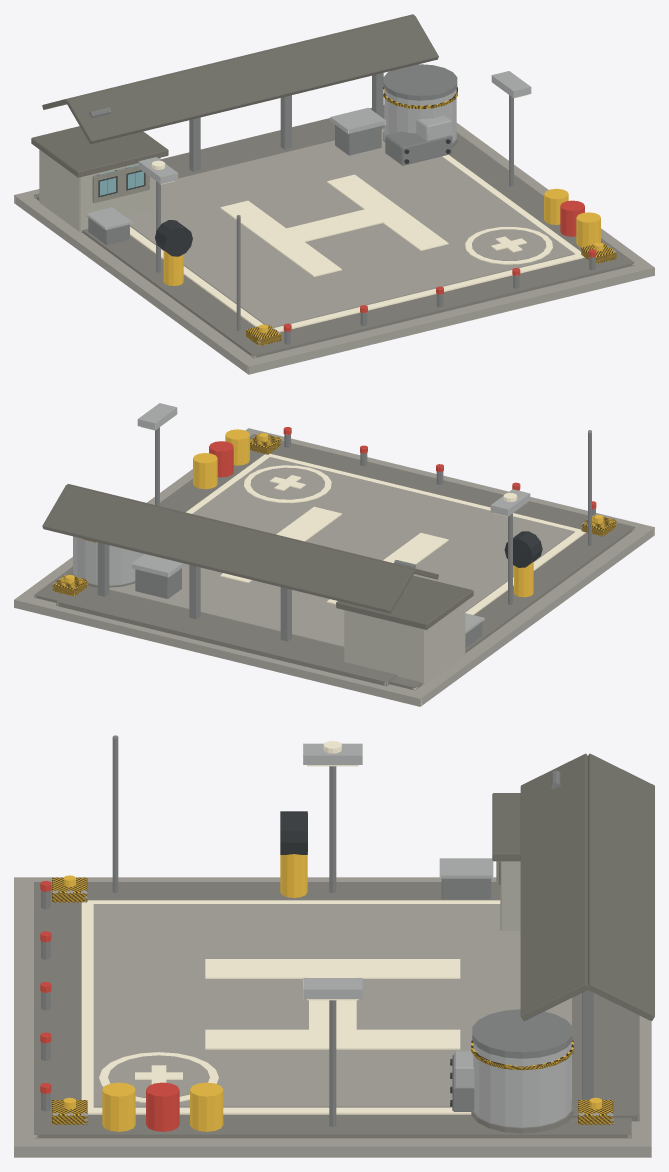
The model's file is helipad.glb.
3 renders of one model, top to bottom at view 1: azimuth 30°, elevation 25°; view 2: azimuth 150°, elevation 25°; view 3: azimuth 270°, elevation 25°, orthographic. The views are drawn at different scales.
Parts seen in each view (by area): view 1: Helipad, Lv2, Lv1; view 2: Helipad, Lv2, Lv1; view 3: Helipad, Lv2, Lv1.
Boxes of the visible parts, x1,y1,x2,y2 form: Helipad: (14, 115, 654, 374); Lv2: (42, 14, 596, 344); Lv1: (89, 64, 531, 330); Helipad: (14, 428, 654, 706); Lv2: (42, 427, 596, 686); Lv1: (71, 403, 591, 604); Helipad: (14, 793, 651, 1157); Lv2: (40, 753, 654, 1121); Lv1: (112, 735, 573, 1133).
Size of the model in its own units: 16 by 4.7 by 16.08.
1 material, 1 textured.
